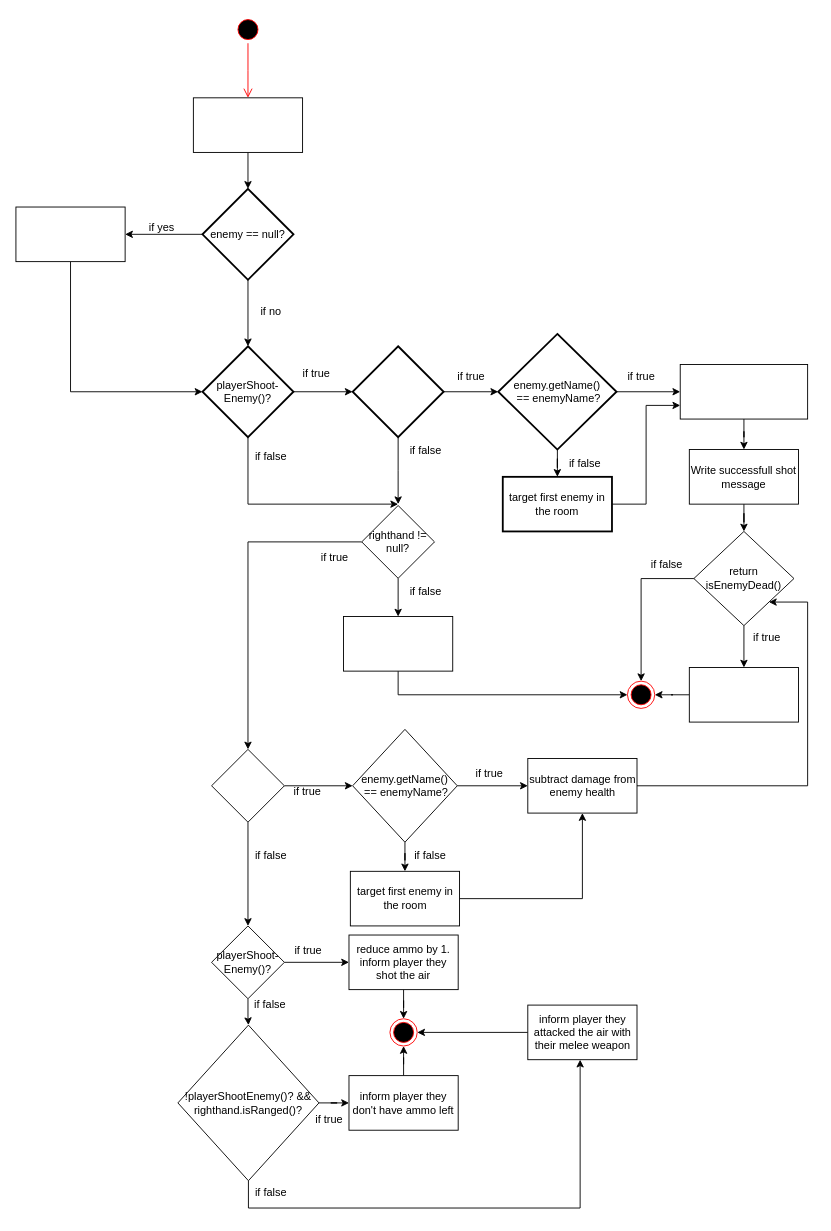
Some shapes in this 831 by 1231 pixel diagram are drawn without their labels. The shapes that lost their labels are listed below. From the top down, each one's centre as x and y in pixels, then its label:
At pixel 247 124: "Find enemy by name".
At pixel 70 234: "set enemy to first in list".
At pixel 397 391: "enemy != null?".
At pixel 743 391: "subtract damage from enemy health. Ammo -1".
At pixel 398 643: "return message informing the player they don't have a weapon equipped".
At pixel 743 694: "return message informing enemy has died".
At pixel 247 785: "enemy != null".
